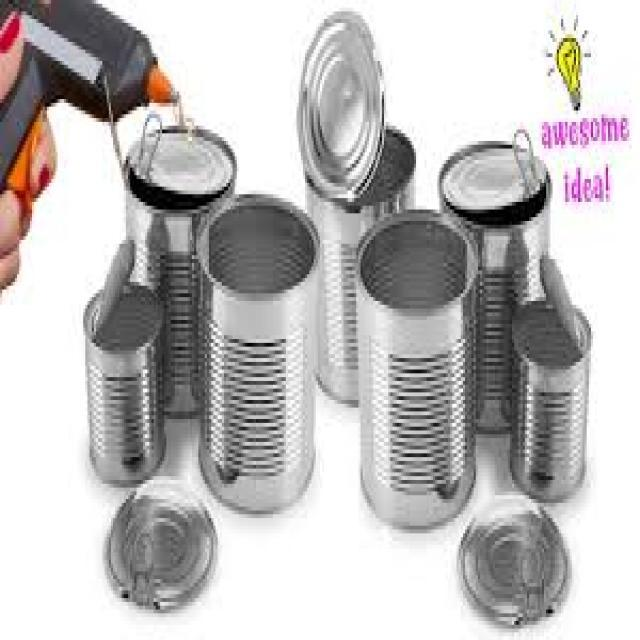recyclable: (196, 193, 322, 518), (354, 207, 477, 532), (122, 112, 238, 422), (437, 125, 552, 432), (305, 120, 416, 407), (508, 252, 592, 504), (84, 235, 163, 486), (293, 11, 386, 208), (455, 493, 570, 640), (101, 478, 217, 616)
